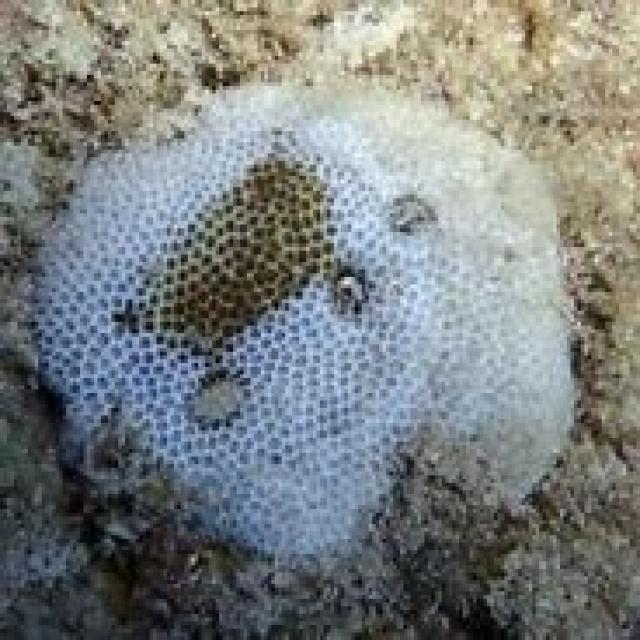Coral: (27, 76, 577, 569)
